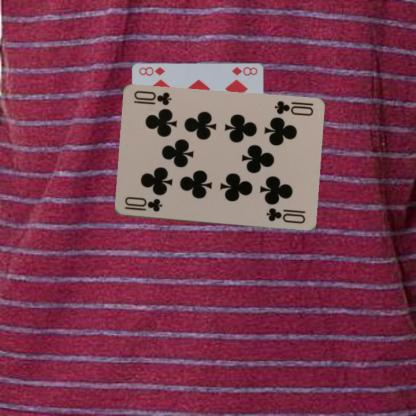10c: (272, 99, 314, 118), (122, 194, 163, 213)
8d: (229, 64, 259, 77)
